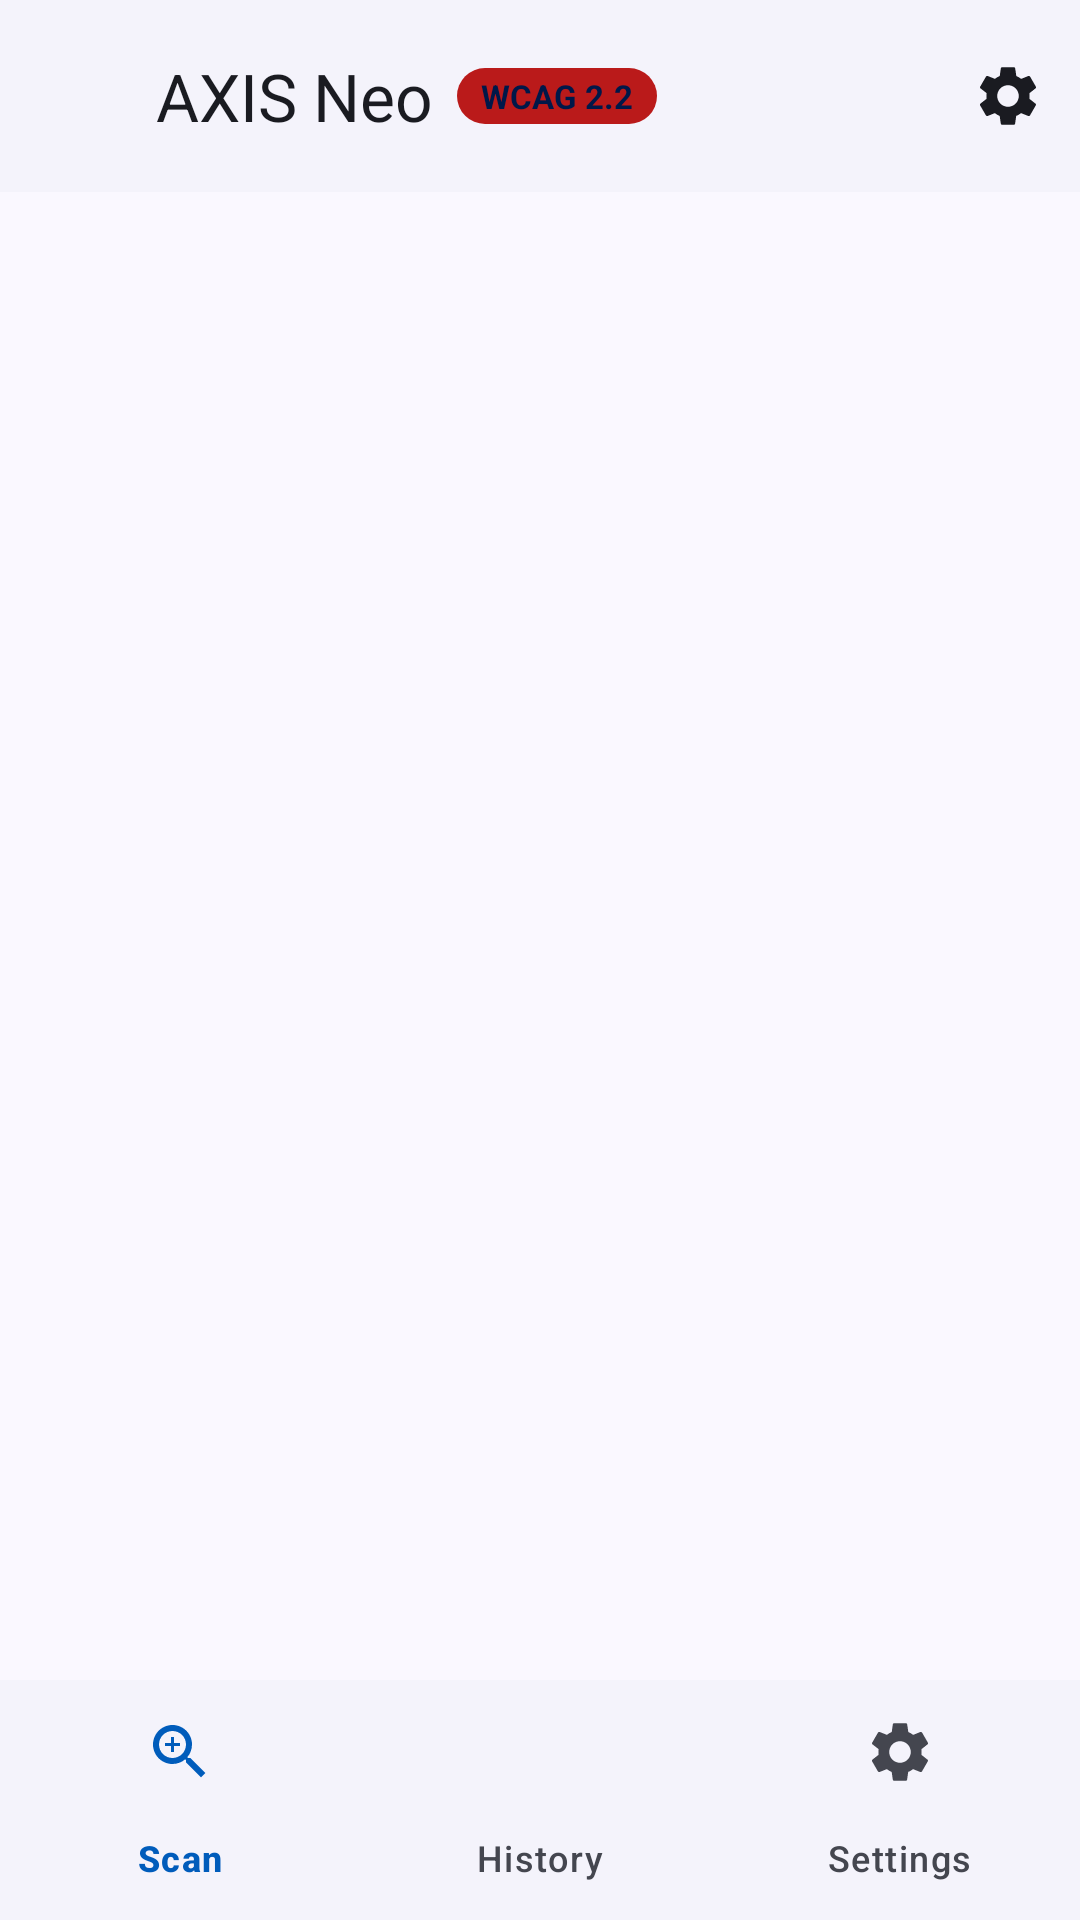

Screen size 1080×1920. Icon name, then its center in pixels as point (x, y):
Settings: point (1008, 96)
